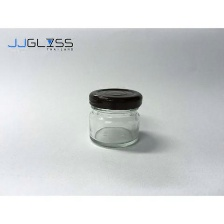bottle: (77, 82, 152, 149)
